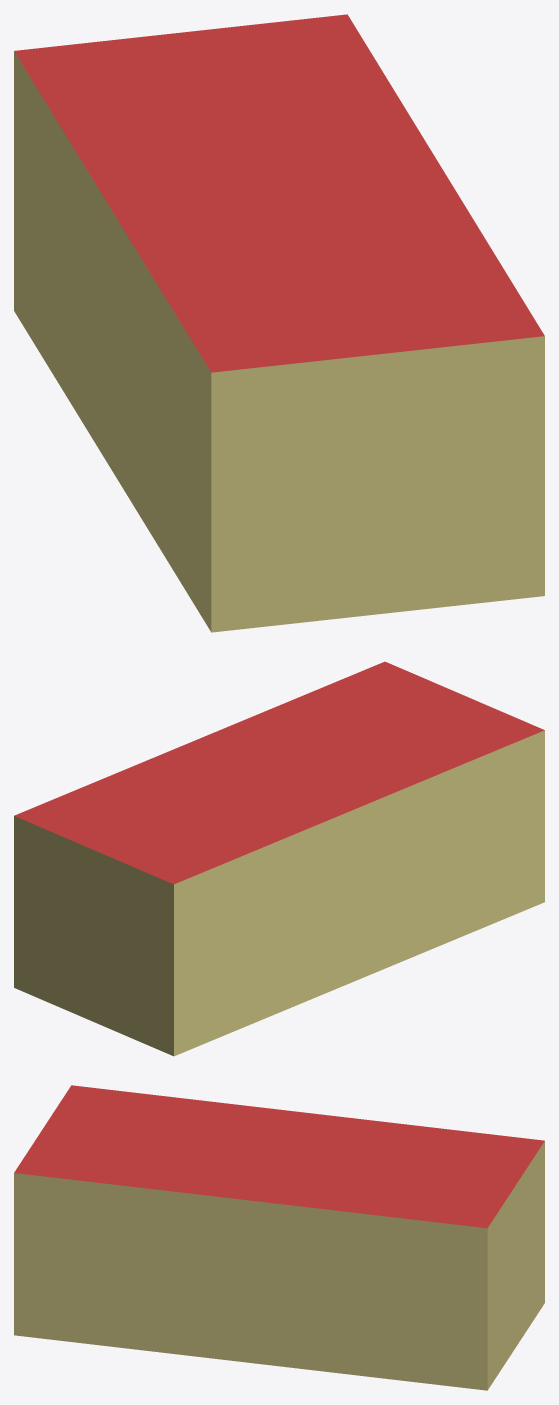
The picture shows the model from 3 angles, top to bottom: view 1: azimuth 30°, elevation 25°; view 2: azimuth 150°, elevation 25°; view 3: azimuth 270°, elevation 25°; orthographic projection. The views are drawn at different scales.
Bounding box in the file's own units: 11.22 × 17.59 × 5.94.
